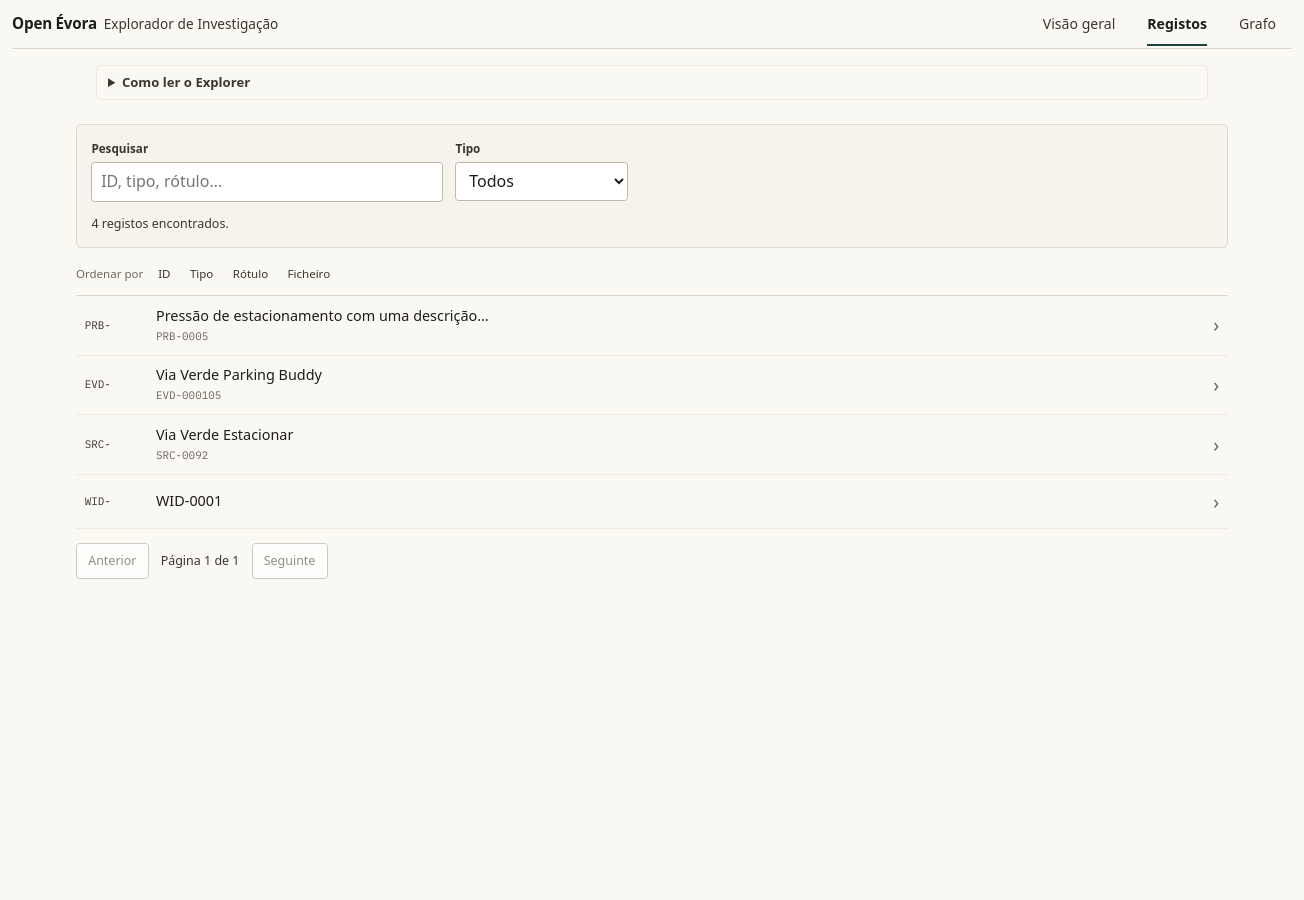
Test: Explorer — Records workflow (fake provider) › navigates PRB-0005 -> EVD-000105 -> SRC-0092, each step reachable back to Registos via the breadcrumb
Click the button "PRB- Pressão de estacionamento com uma descrição… PRB-0005 ›": (322, 315) [76,296,1228,356]
(page scrolled)
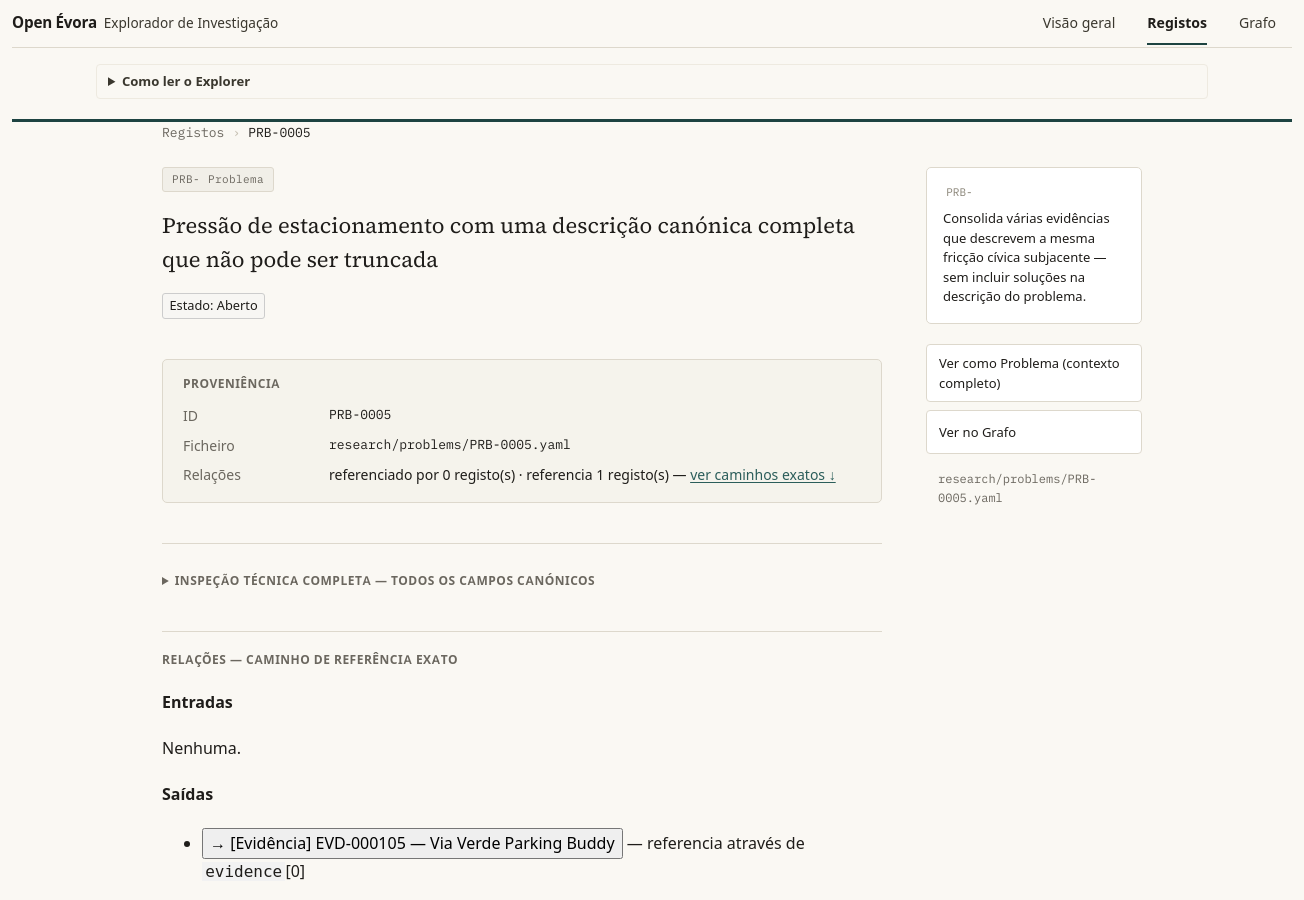
expect the heading "Inspeção técnica completa — todos os campos canónicos" is shown: met, box [175,573,595,588]
Click the button "→ [Evidência] EVD-000105 — Via Verde Parking Buddy": (412, 843) [202,828,622,859]
(page scrolled)
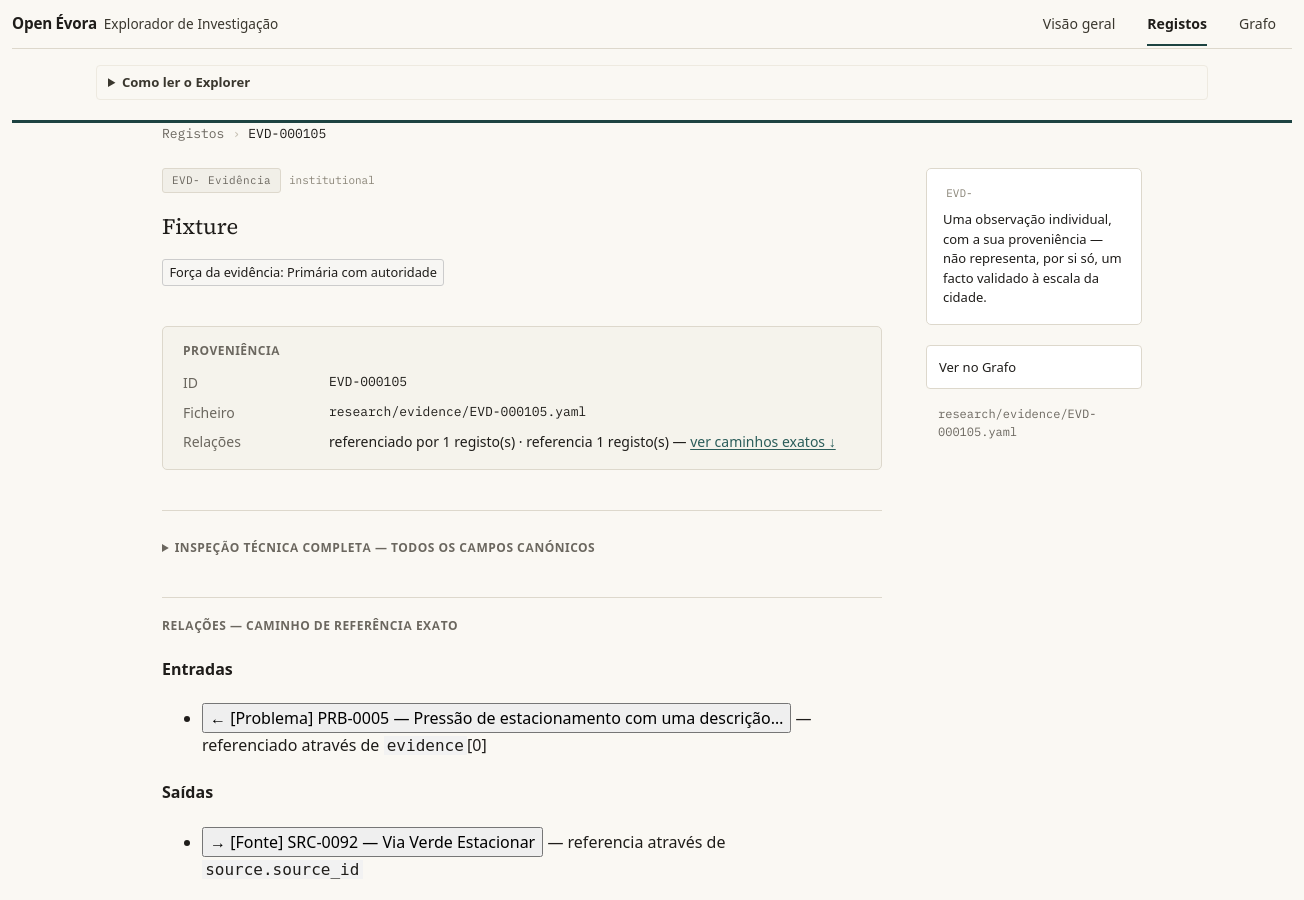
expect the button "→ [Fonte] SRC-0092 — Via Verde Estacionar" is shown: met
Click the button "→ [Fonte] SRC-0092 — Via Verde Estacionar": (373, 842) [202,826,543,857]
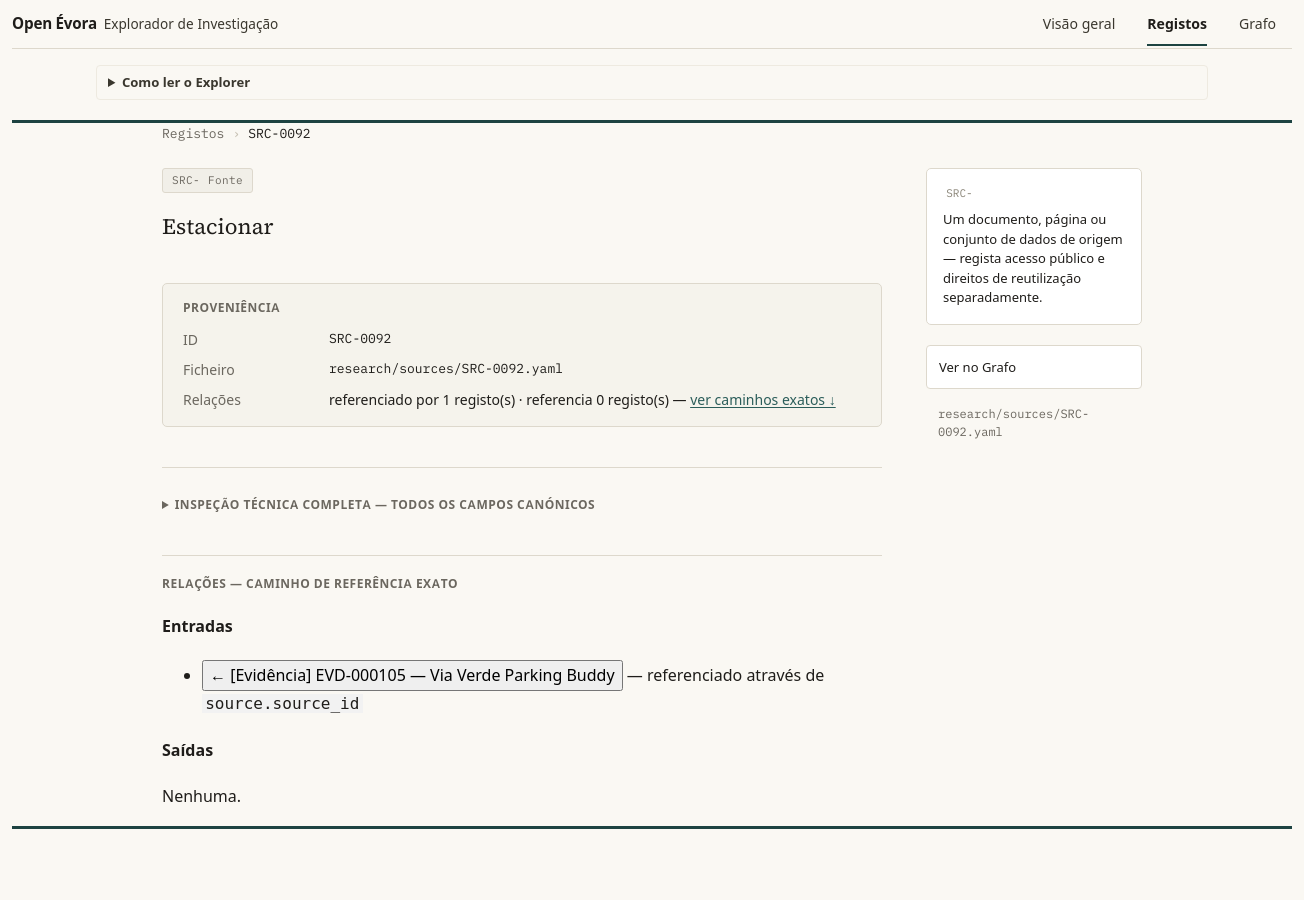
expect the 1st text "SRC-0092" is shown: met, box [248,124,311,144]
Click the 2nd button "Registos": (193, 134) [162,124,224,144]
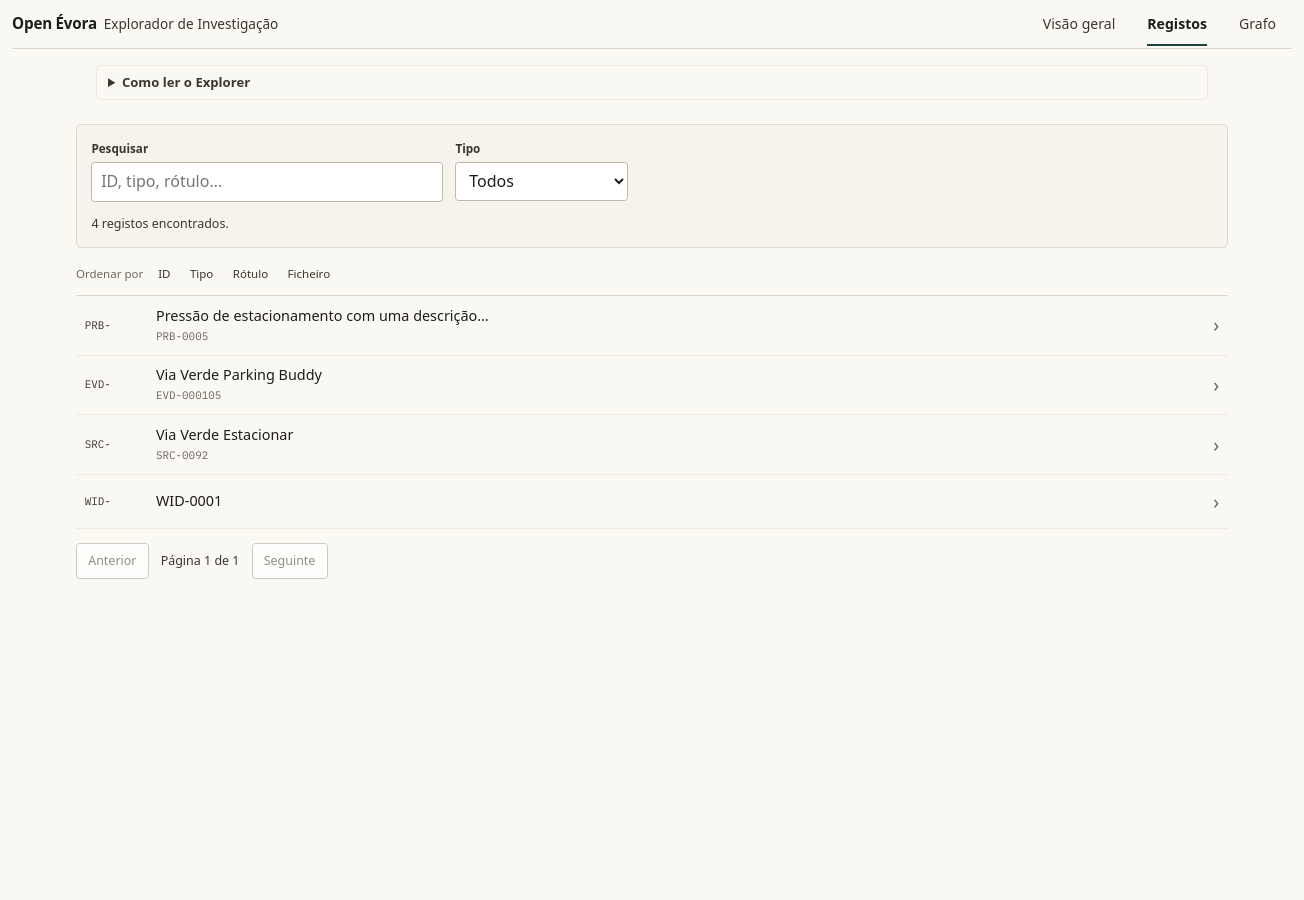
expect the button "PRB- Pressão de estacionamento com uma descrição… PRB-0005 ›" is shown: met, box [76,296,1228,356]
